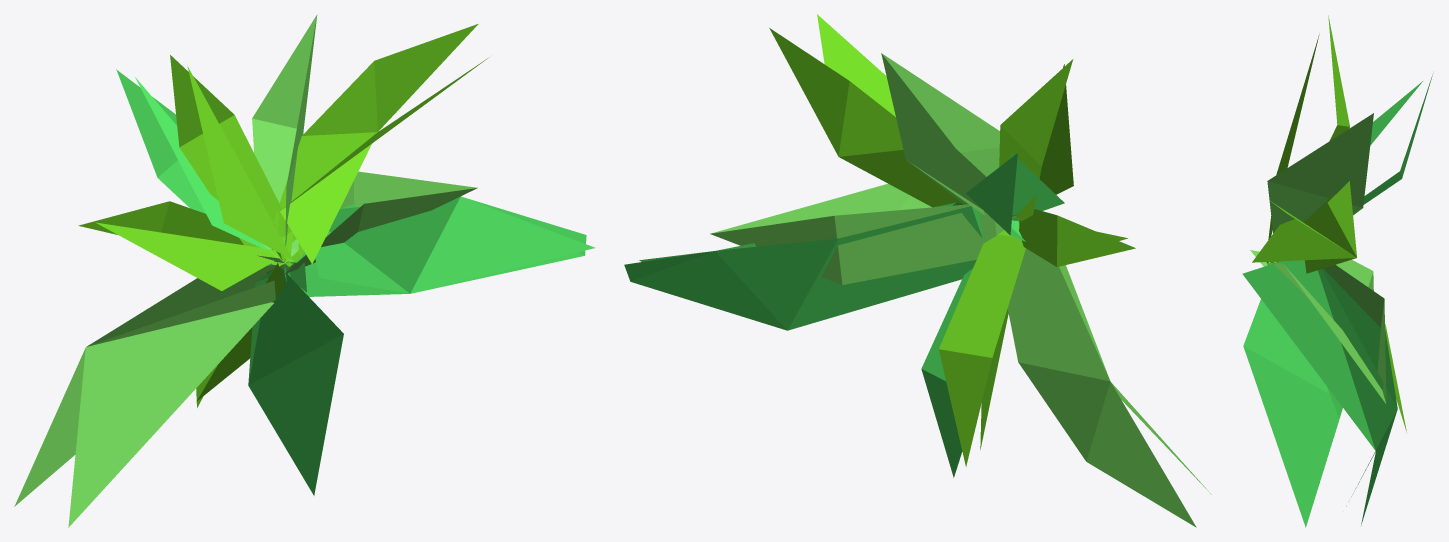
File: Grass.fbx
3 renders of one model, left to right at view 1: azimuth 30°, elevation 25°; view 2: azimuth 150°, elevation 25°; view 3: azimuth 270°, elevation 25°, orthographic. The views are drawn at different scales.
Parts seen in each view (by area): view 1: GrassMiddle, GrassNear; view 2: GrassNear, GrassMiddle; view 3: GrassMiddle, GrassNear.
Part boxes in pixels (left/top/right/bottom): GrassMiddle: left=68, top=15, right=595, bottom=527; GrassNear: left=14, top=14, right=586, bottom=506; GrassNear: left=624, top=28, right=1196, bottom=527; GrassMiddle: left=639, top=14, right=1211, bottom=494; GrassMiddle: left=1242, top=34, right=1422, bottom=527; GrassNear: left=1266, top=15, right=1433, bottom=525.
Size of the model in its own units: 429 by 331 by 128.
